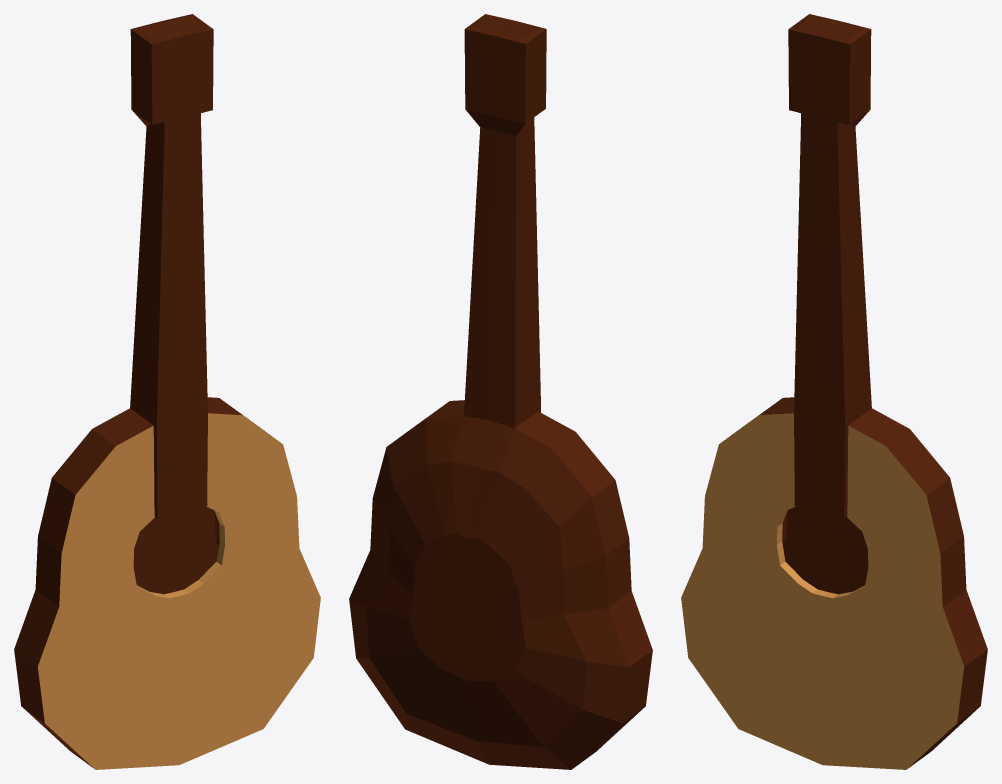
The model's file is lute.glb.
3 views of the same model, side by side, from view 1: azimuth 30°, elevation 25°; view 2: azimuth 150°, elevation 25°; view 3: azimuth 330°, elevation 25° (orthographic).
Parts seen in each view (by area): view 1: Lute; view 2: Lute; view 3: Lute.
Boxes of the visible parts, bbox=[...] form: Lute: bbox=[14, 14, 320, 769]; Lute: bbox=[349, 14, 652, 769]; Lute: bbox=[681, 14, 987, 769].
Bounding box in the file's own units: 1.5 × 3.71 × 0.4552.
Materials: 1 (1 with a texture image).
